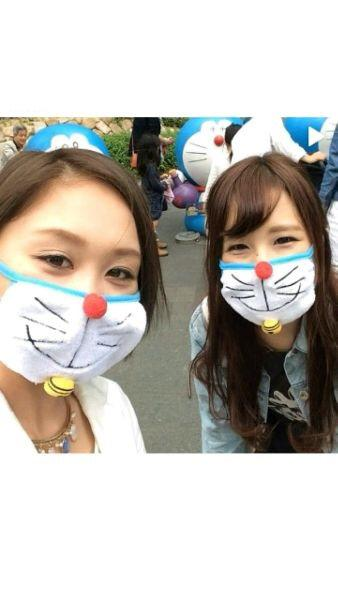OK: (6, 232, 143, 369), (219, 224, 310, 321)
